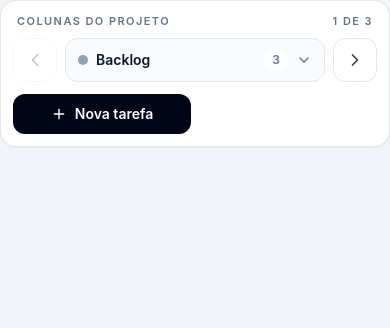
Test case: navegação mobile do Kanban › permite escolher diretamente uma coluna e indica a quantidade de tarefas
The width and height of the screenshot is (390, 328).
Click the button with aria-label "Escolher coluna" at (123, 59), box 65,38 -> 325,82
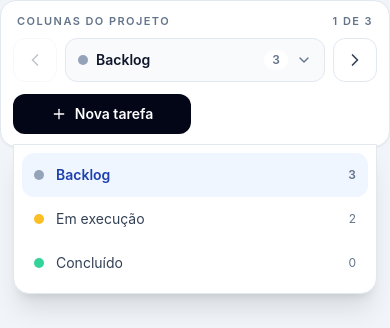
Check: the button "Em execução 2" is shown, box 22,196 -> 368,240
Click the button "Concluído 0" at (89, 262), box 22,240 -> 368,284
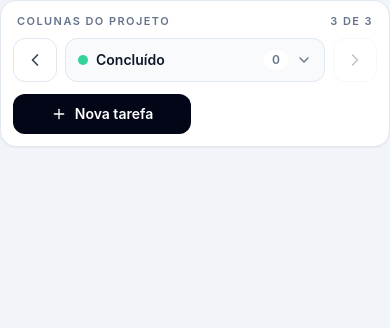
Check: the text "3 de 3" is shown, box 330,13 -> 373,30
